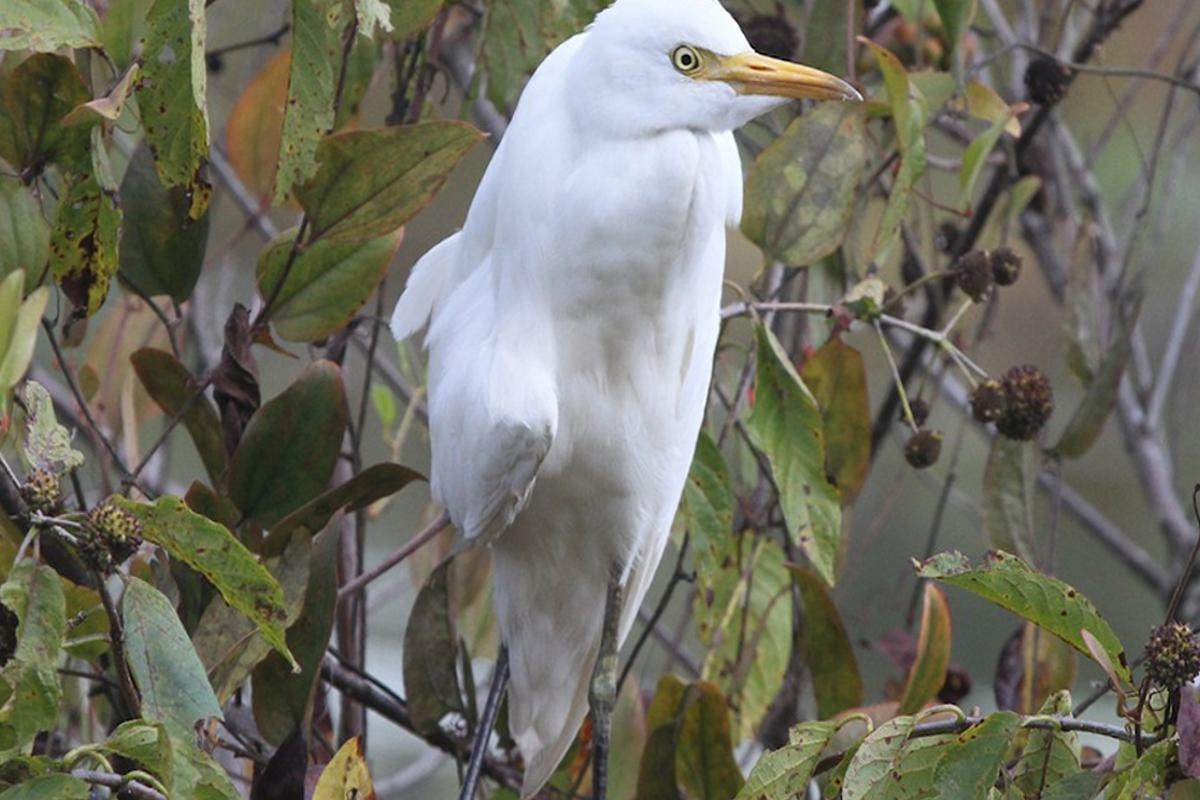egret: (425, 1, 868, 776)
